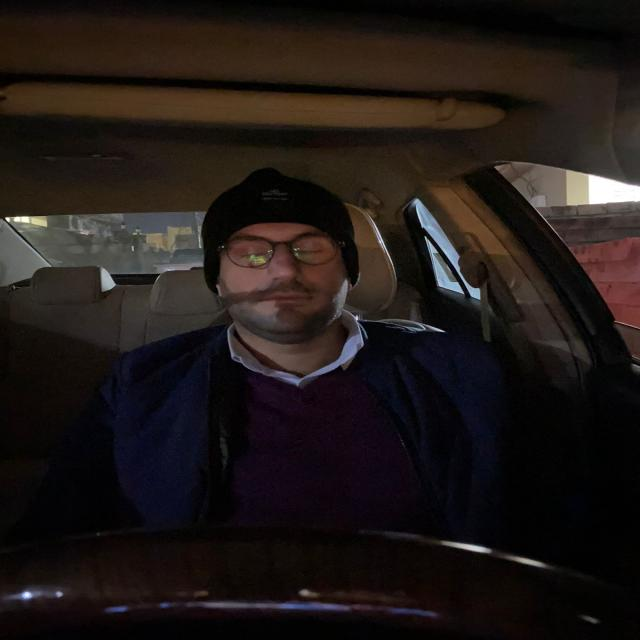drowsy: (199, 153, 375, 348)
